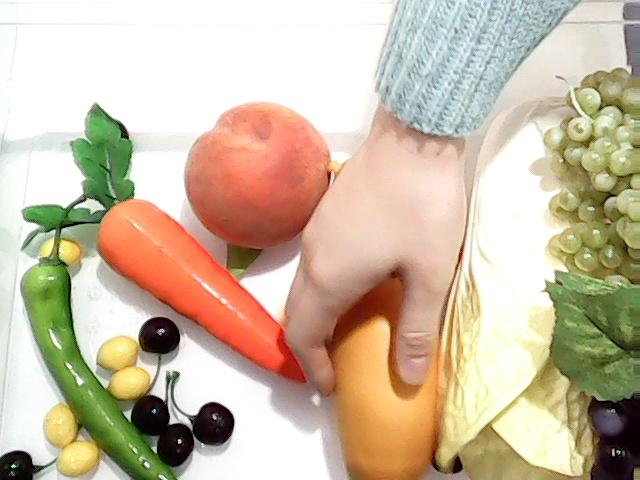carrot: (20, 95, 308, 381)
grape: (543, 64, 640, 289), (538, 270, 640, 480)
mango: (326, 267, 454, 480)
napa cabbage: (430, 100, 640, 480)
peach: (184, 97, 332, 255)
pepper: (15, 188, 178, 480)
